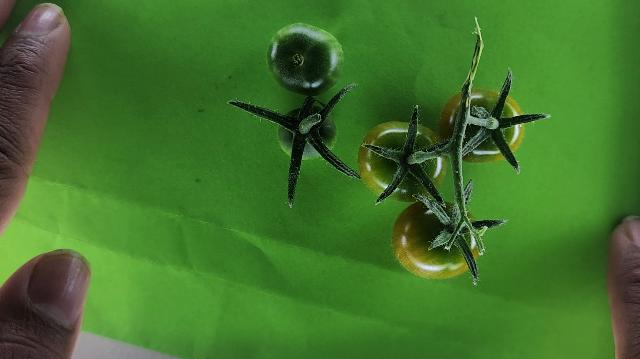Fruit Maturation: (266, 22, 347, 96), (278, 102, 340, 159)
Fully Grown: (390, 198, 483, 281), (357, 121, 445, 203), (438, 88, 524, 161)
